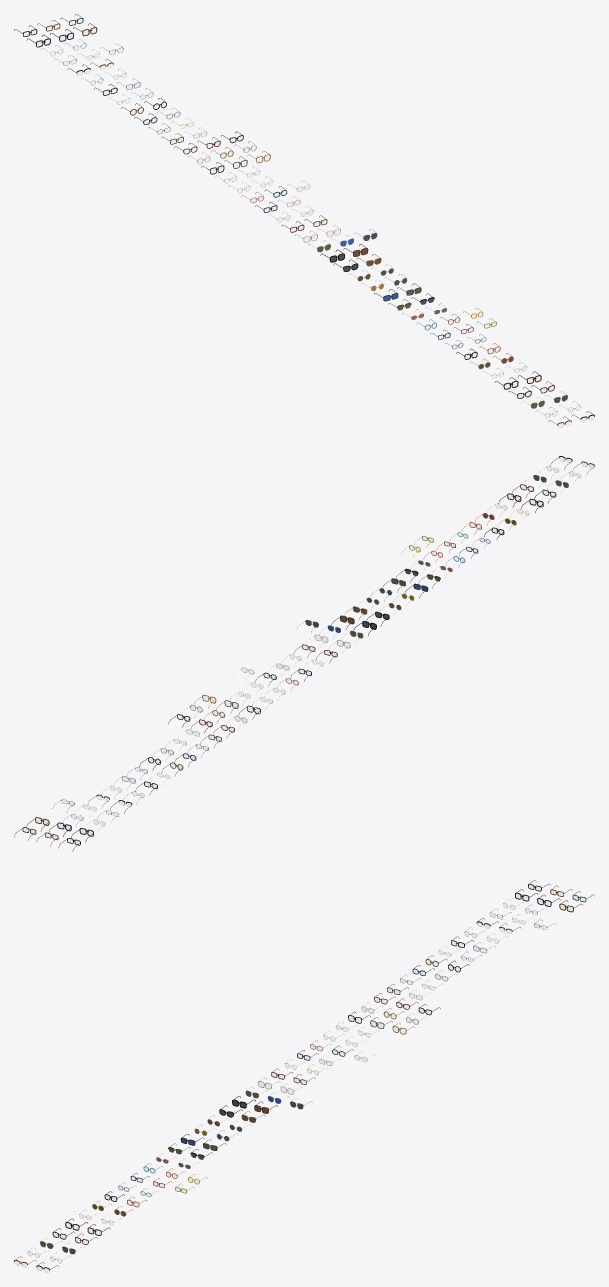
File: Nayan_Frame_Library.glb
The picture shows the model from 3 angles, top to bottom: view 1: azimuth 30°, elevation 25°; view 2: azimuth 150°, elevation 25°; view 3: azimuth 330°, elevation 25°; orthographic projection. The views are drawn at different scales.
Bounding box in the file's own units: 0.5922 × 0.0587 × 8.95.
Materials: 37 (3 with a texture image).
